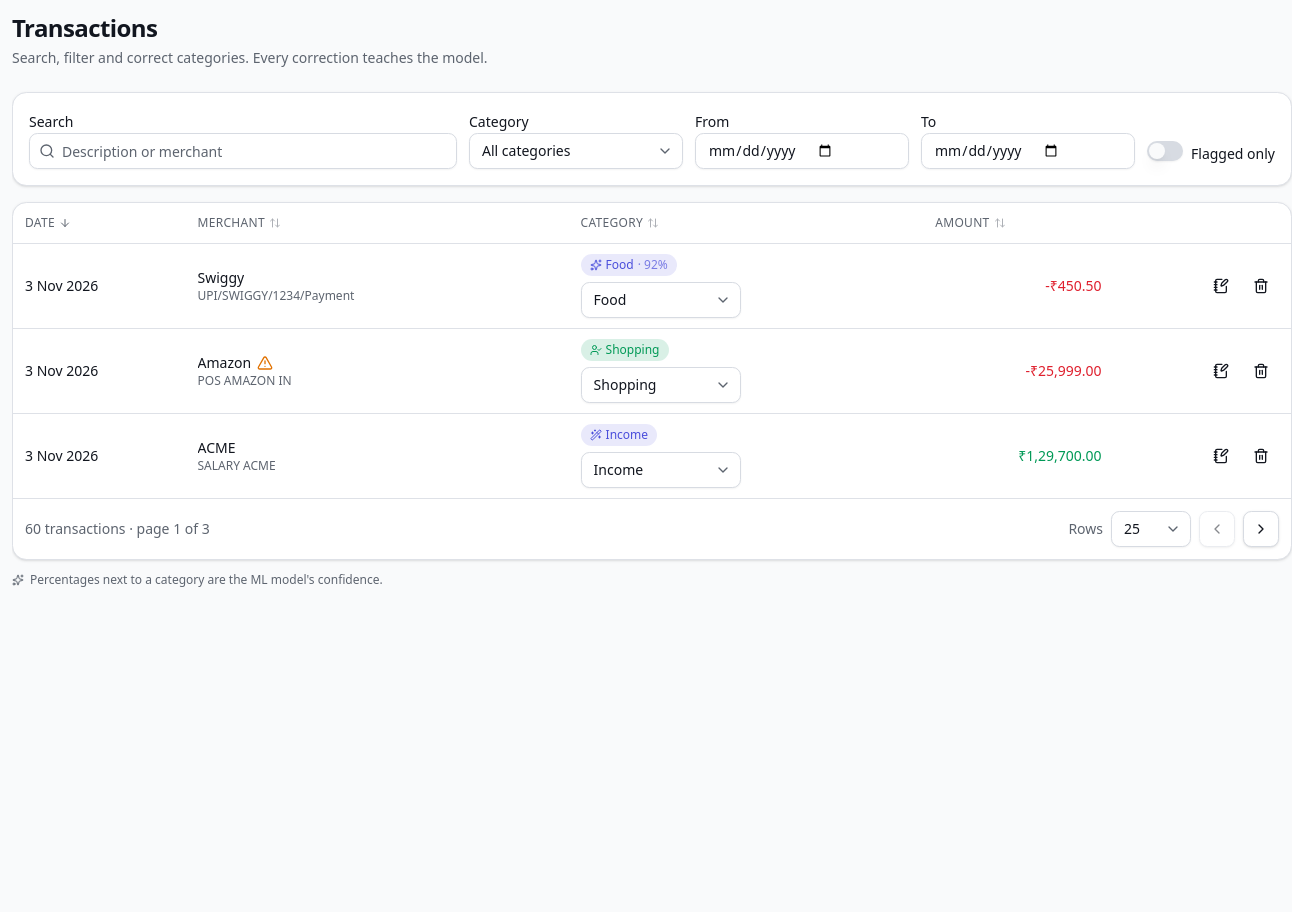
<TransactionsPage> › edits a category optimistically and confirms it teaches the model
The width and height of the screenshot is (1292, 912).
Select "Groceries" in the dropdown named "Category for Swiggy (teaches the model)" at (661, 300), box [581,282,741,318]
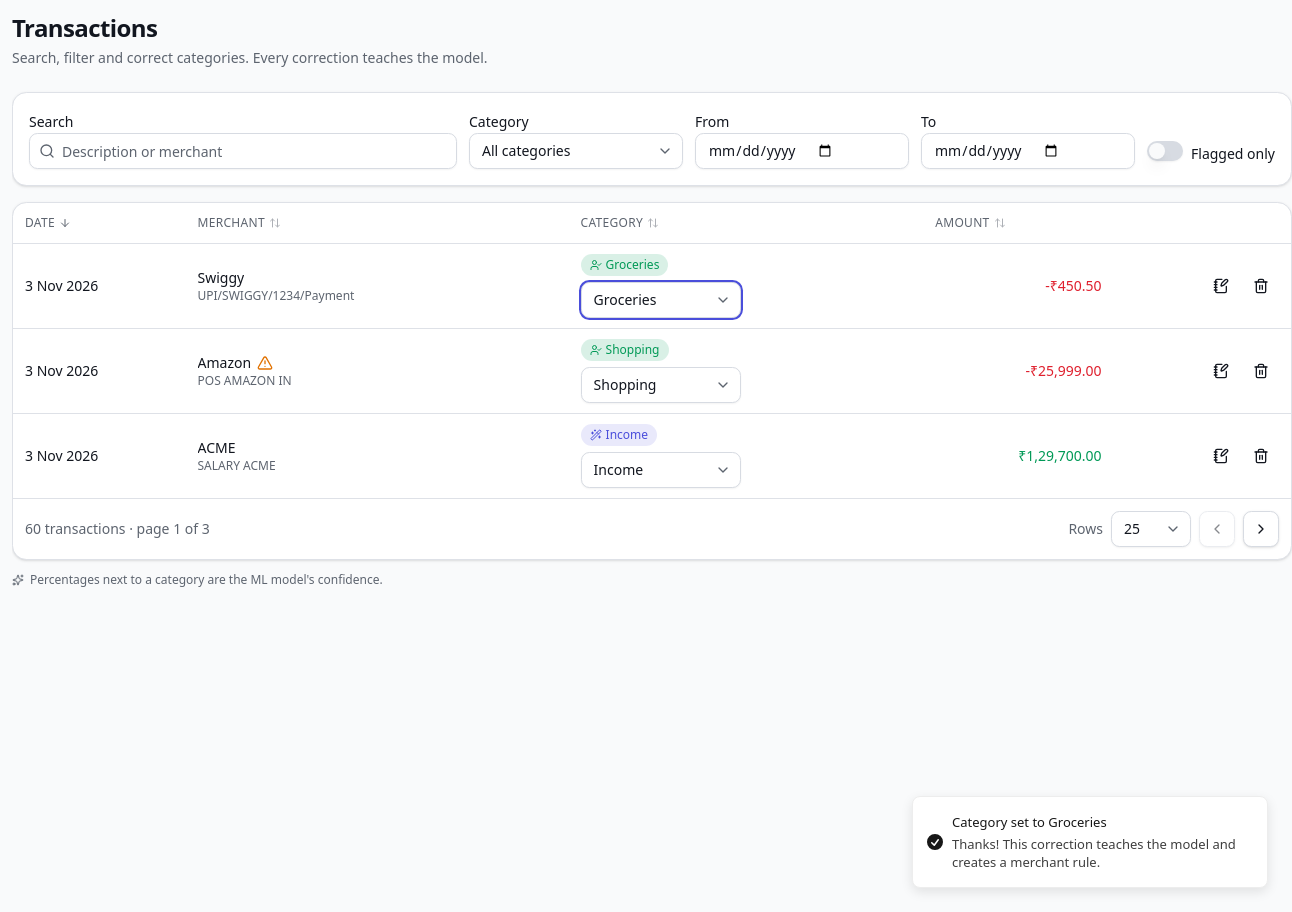
Result: the element with test id "category-badge" reads "Groceries" at [606,256,659,272]
Result: the element with test id "category-badge" no longer shows "92%" at [581,254,668,276]
Result: the text "teaches the model" is shown at [952,835,1236,871]
